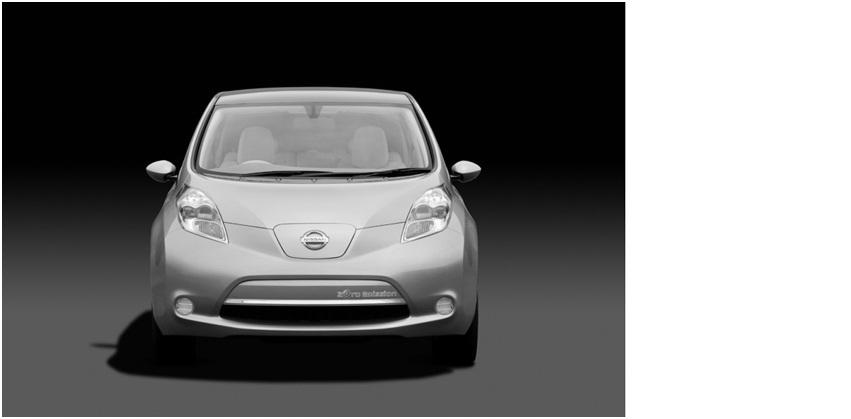car: (143, 85, 482, 373)
